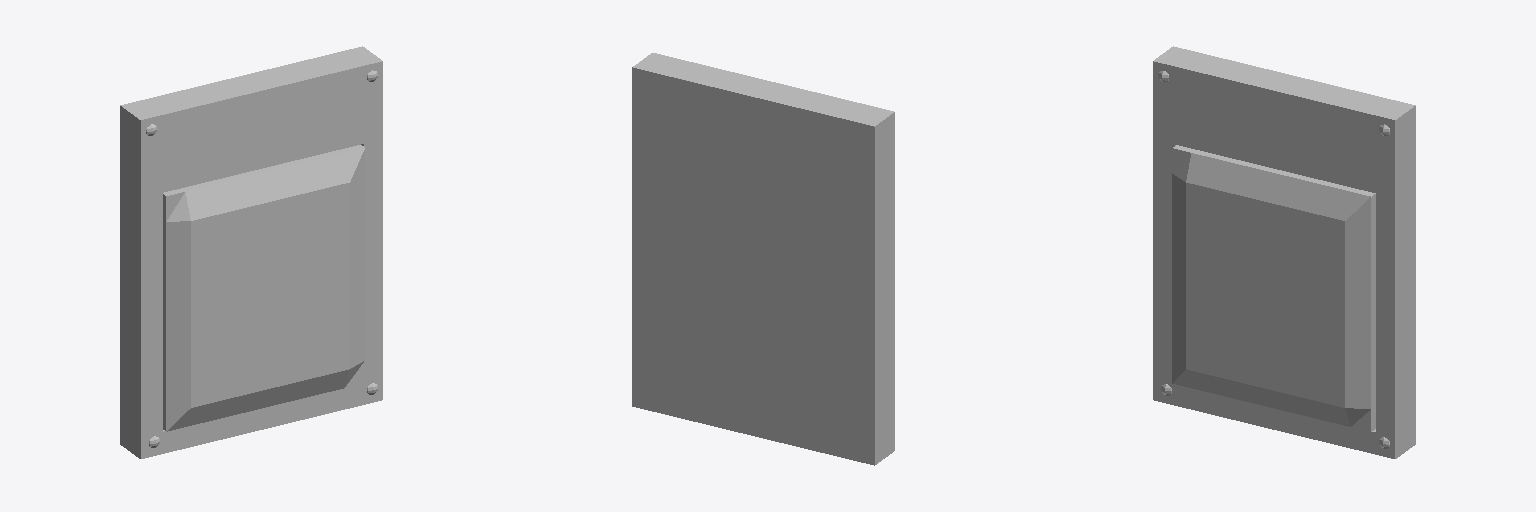
File: button final 1.obj
3 views of the same model, side by side, from view 1: azimuth 30°, elevation 25°; view 2: azimuth 150°, elevation 25°; view 3: azimuth 330°, elevation 25° (orthographic).
Parts seen in each view (by area): view 1: base button, base; view 2: base; view 3: base button, base.
Part boxes in pixels (x1,y1,x2,y2): base button: (163,145,364,431); base: (120,46,382,458); base: (632,53,894,465); base button: (1172,145,1375,431); base: (1153,46,1415,458).
Bounding box in the file's own units: 3.93 × 5.25 × 0.8117.